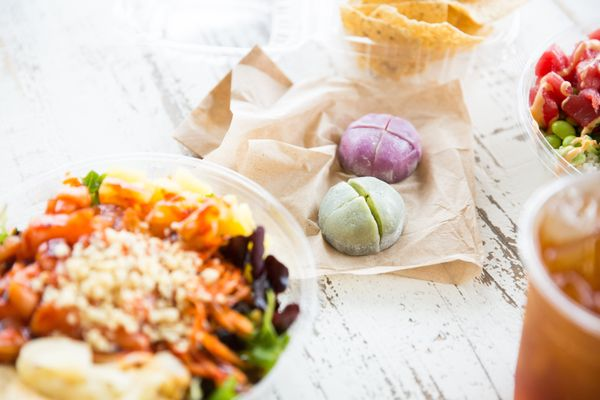pizza: (511, 164, 600, 395)
sushi: (0, 154, 318, 395), (517, 24, 600, 178)
